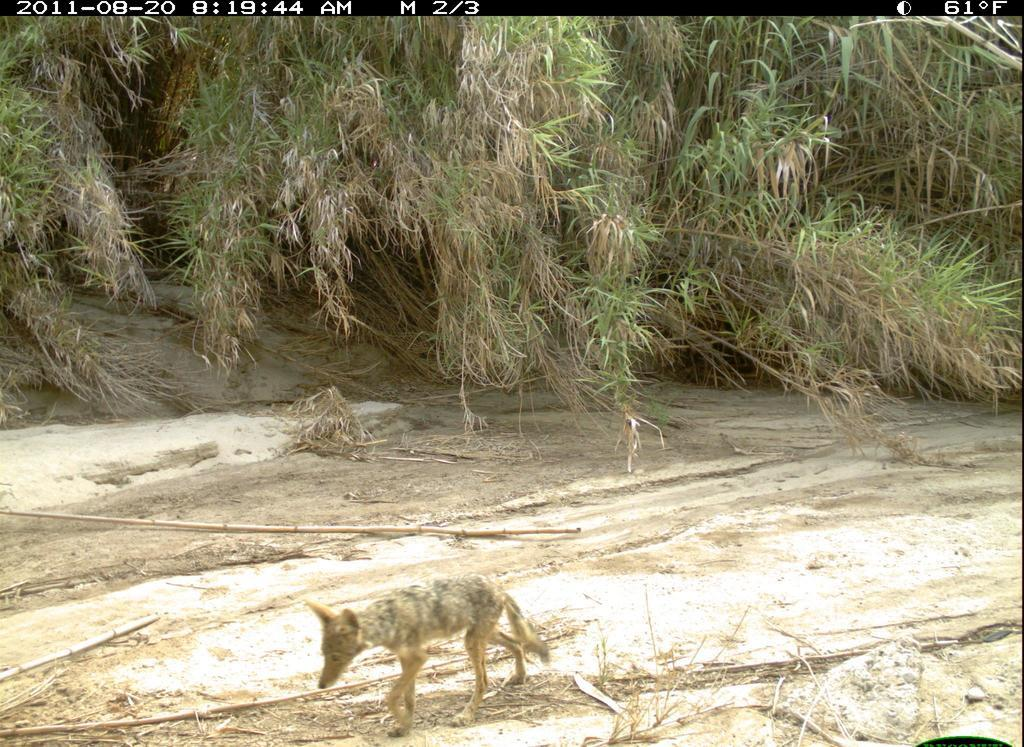coyote: (300, 562, 559, 739)
